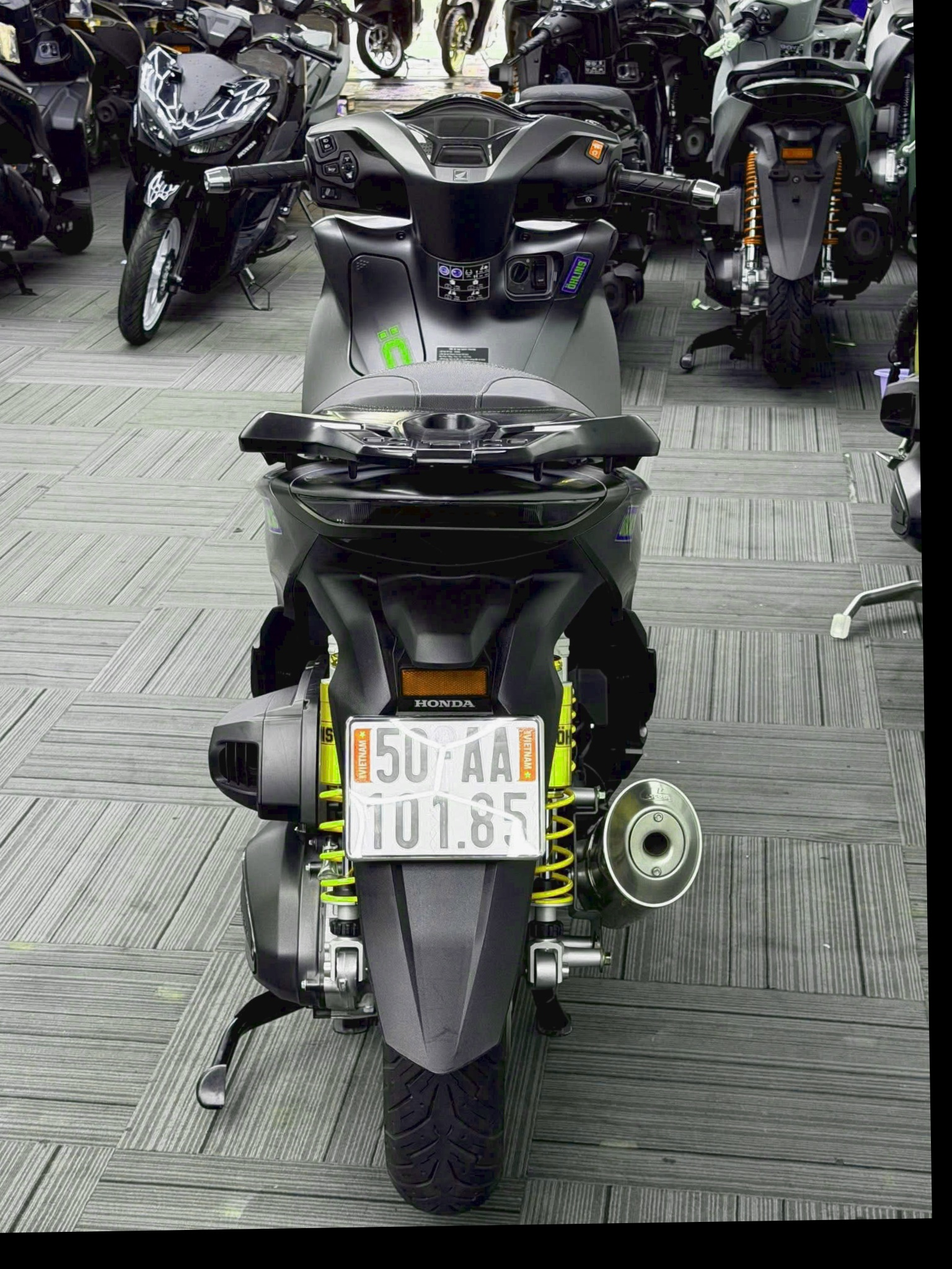Bien-so: (379, 753, 590, 916)
